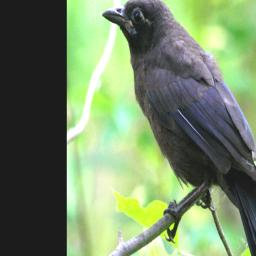Crow: (102, 0, 256, 256)
